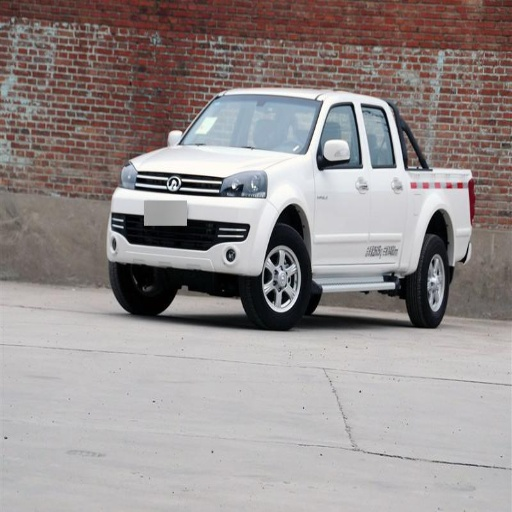back_left_door: (359, 101, 396, 261)
front_bumper: (109, 174, 277, 274)
front_glass: (178, 96, 321, 154)
front_left_door: (315, 100, 370, 264)
trunk: (400, 172, 476, 269)
